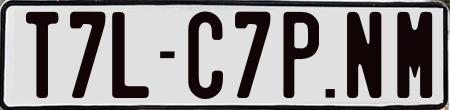7: (70, 10, 109, 102), (234, 12, 274, 100)
C: (185, 11, 225, 102)
L: (112, 11, 154, 97)
M: (394, 12, 433, 104)
N: (347, 11, 384, 97)
P: (282, 12, 324, 101)
T: (25, 12, 60, 98)
